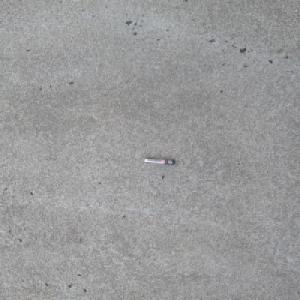Battery: (143, 158, 176, 164)
